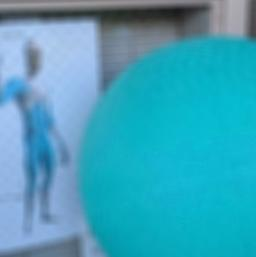algae: (80, 35, 256, 257)
